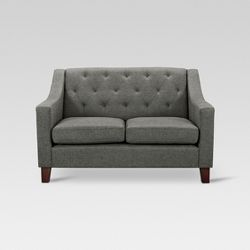chairs: (27, 58, 223, 187)
